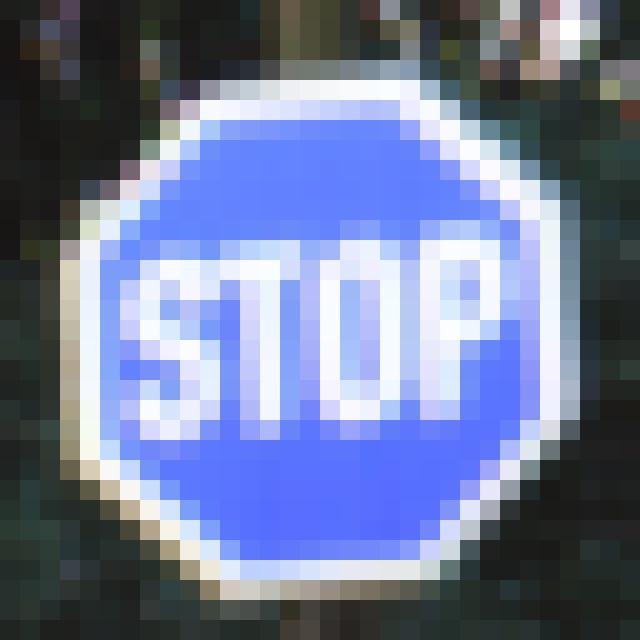STOP: (87, 96, 560, 584)
